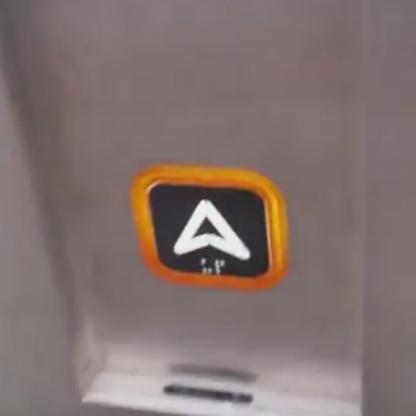up: (131, 165, 286, 292)
